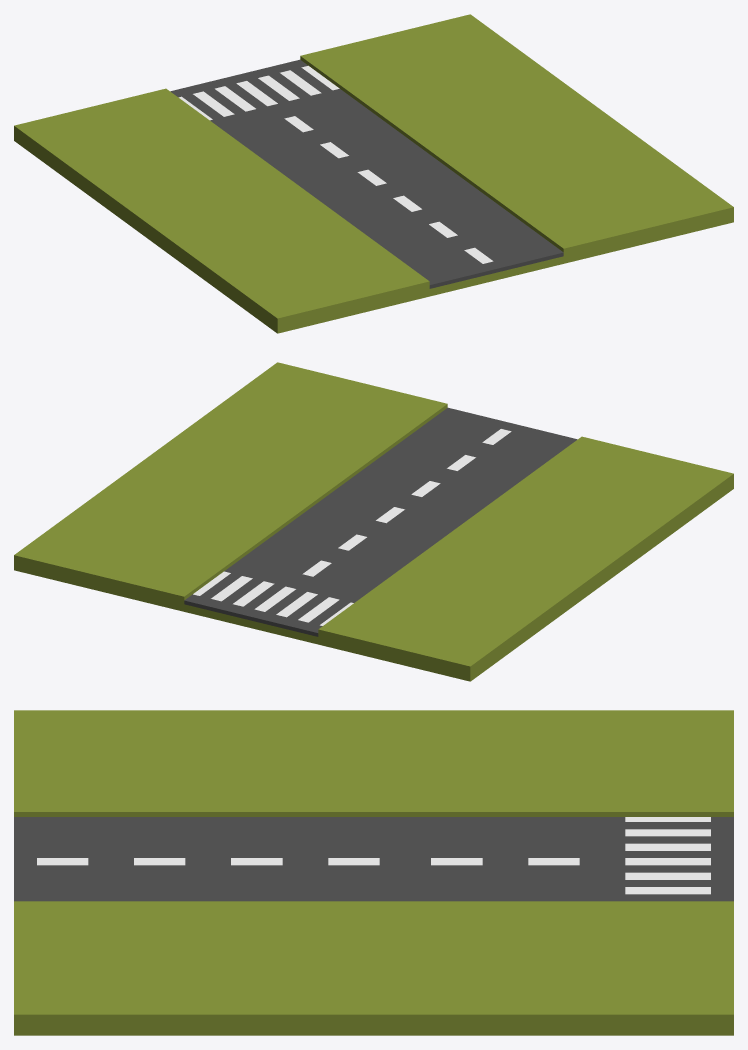
File: planerun.obj
The picture shows the model from 3 angles, top to bottom: view 1: azimuth 30°, elevation 25°; view 2: azimuth 150°, elevation 25°; view 3: azimuth 270°, elevation 25°; orthographic projection. The views are drawn at different scales.
Bounding box in the file's own units: 12.6 × 0.4 × 12.6.
Materials: 1 (1 with a texture image).
